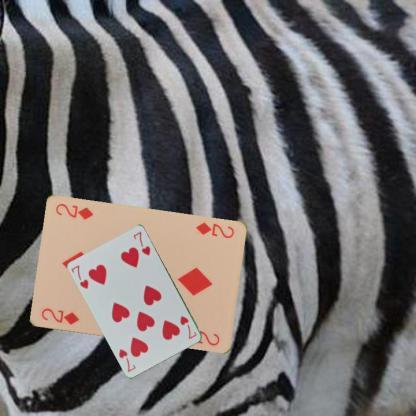2d: (193, 219, 235, 240), (38, 306, 80, 326)
7h: (69, 263, 90, 291), (178, 313, 198, 340)
